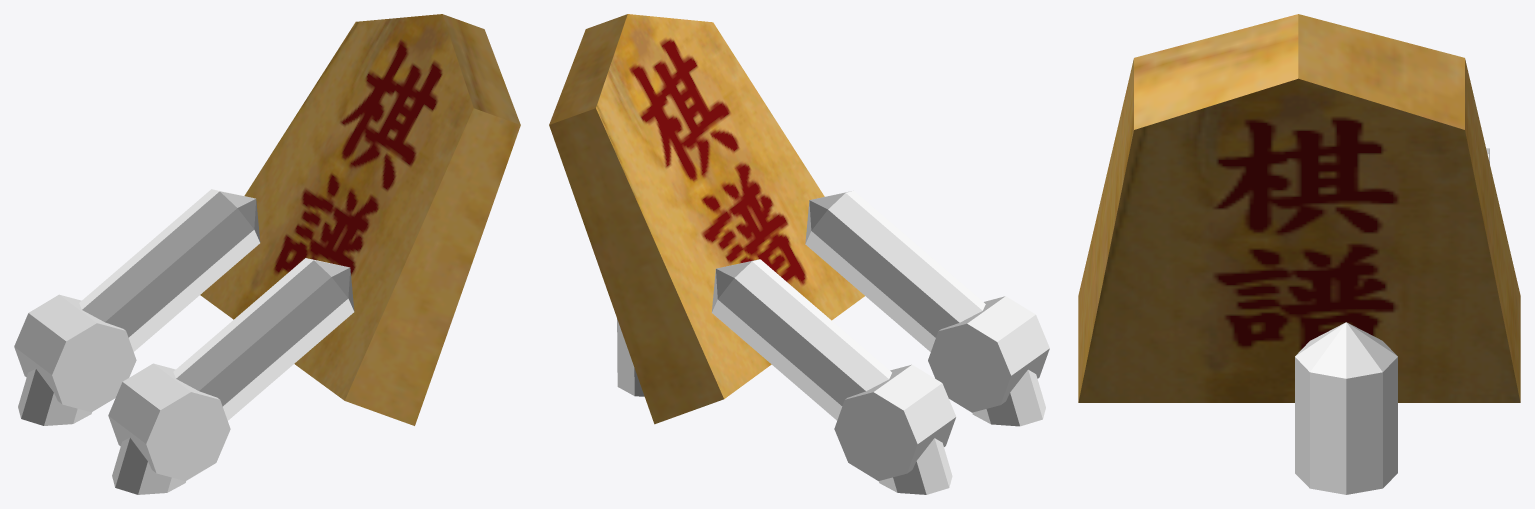
Rendered from kifu.ico.obj.
3 renders of one model, left to right at view 1: azimuth 30°, elevation 25°; view 2: azimuth 150°, elevation 25°; view 3: azimuth 270°, elevation 25°, orthographic. The views are drawn at different scales.
Size of the model in its own units: 4.41 by 3.55 by 2.9.
Materials: 1 (1 with a texture image).
